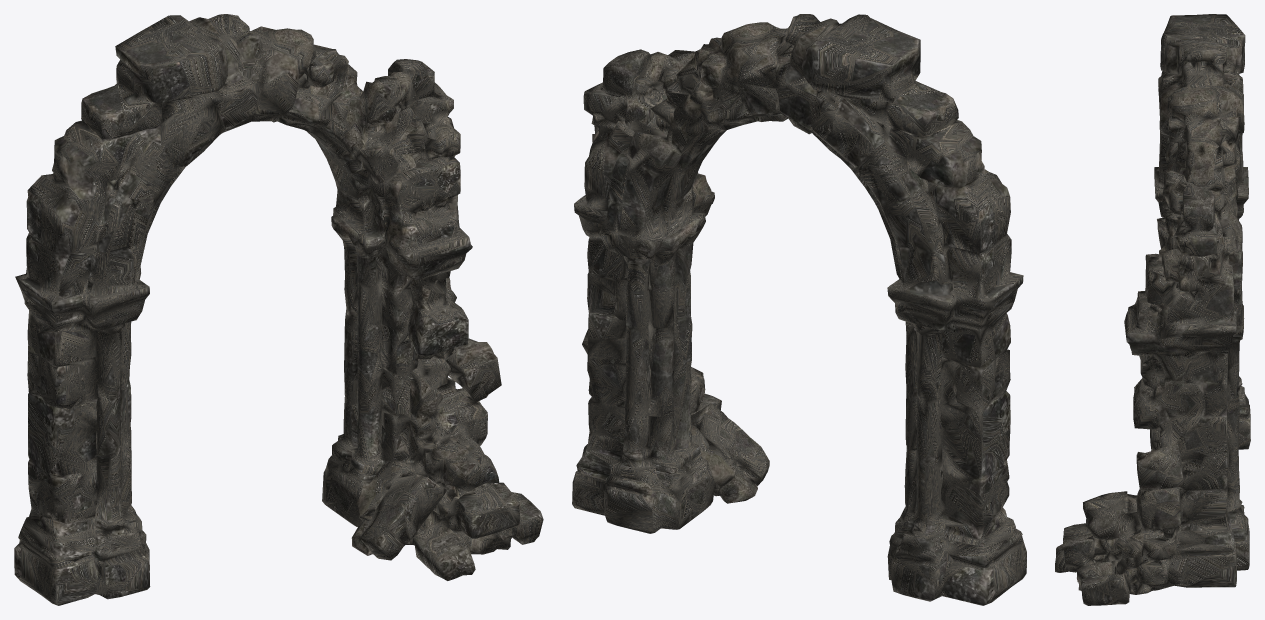
File: ruin-arch.glb
The picture shows the model from 3 angles, left to right: view 1: azimuth 30°, elevation 25°; view 2: azimuth 150°, elevation 25°; view 3: azimuth 270°, elevation 25°; orthographic projection. The views are drawn at different scales.
Size of the model in its own units: 1.65 by 1.9 by 0.7316.
1 material, 1 textured.
